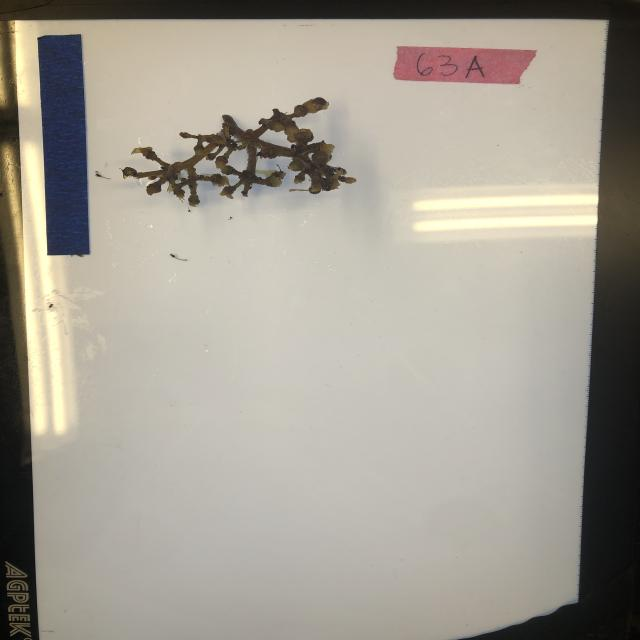index: (390, 44, 534, 86)
measure_label: (34, 32, 92, 258)
rachis_cluster: (120, 92, 362, 206)
